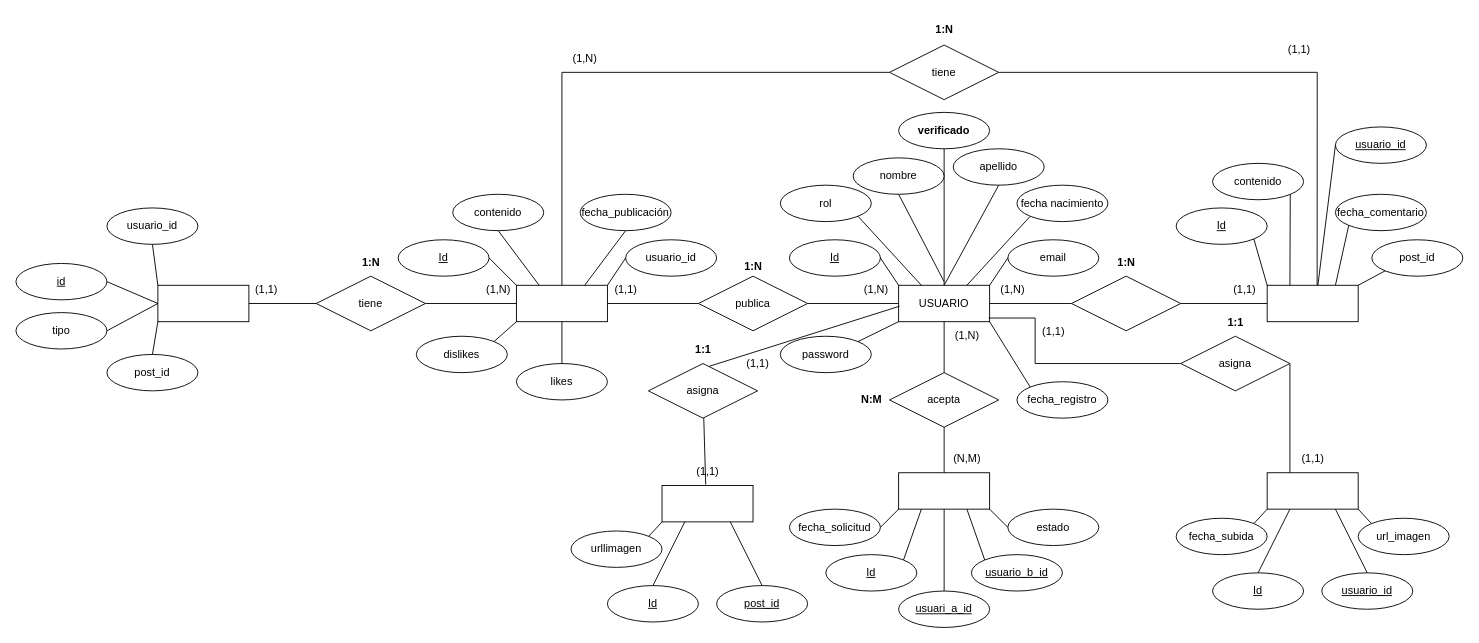
Some shapes in this 1479 by 643 pixel diagram are drawn without their labels. Here are the shapes that lost their labels. From the top down, the centre of each, then its label:
At (203,303): "REACCIONES".
At (561,303): "POST".
At (1126,303): "realiza".
At (1312,303): "COMENTARIOS".
At (707,503): "FOTO_POST".
At (944,490): "AMISTADES".
At (1312,490): "FOTO_PERFIL".
